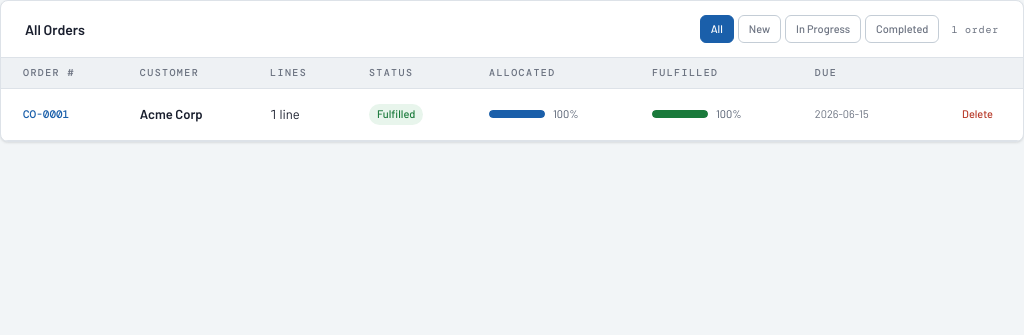
Test: CustomerOrderList › should show filtered empty state and reset filter from CTA
Click the button "New" at [759, 29], box [738,15,781,43]
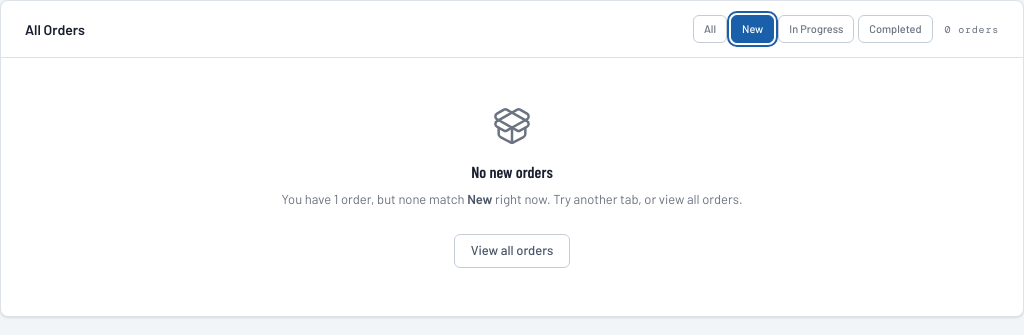
Expected: the heading "No new orders" is shown, [471,162,553,181]
Click the button "View all orders" at [512, 250], box [454,234,570,268]
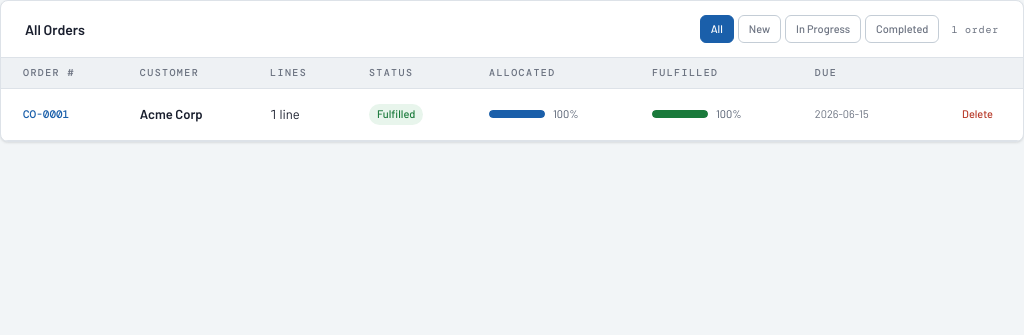
Expected: the text "CO-0001" is shown, [1,88,118,140]
